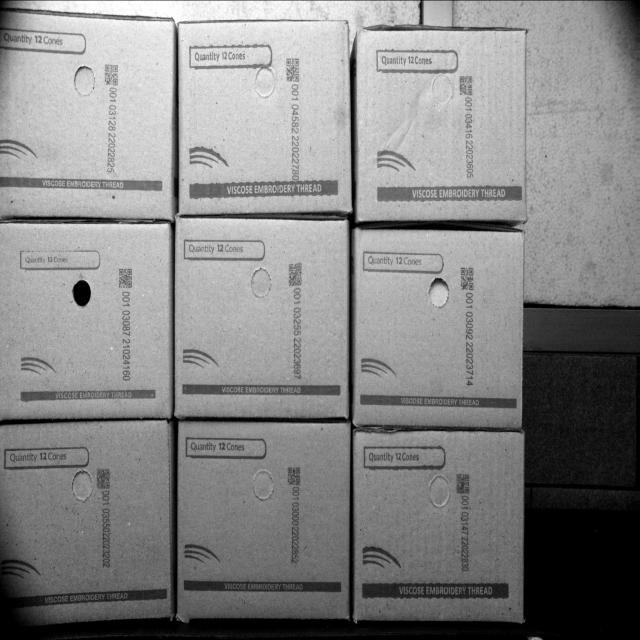box: (0, 417, 174, 619), (175, 222, 352, 418), (178, 16, 350, 216), (0, 16, 173, 214), (176, 424, 348, 620), (353, 232, 526, 424), (356, 26, 528, 218), (0, 228, 174, 416), (352, 430, 522, 616)
